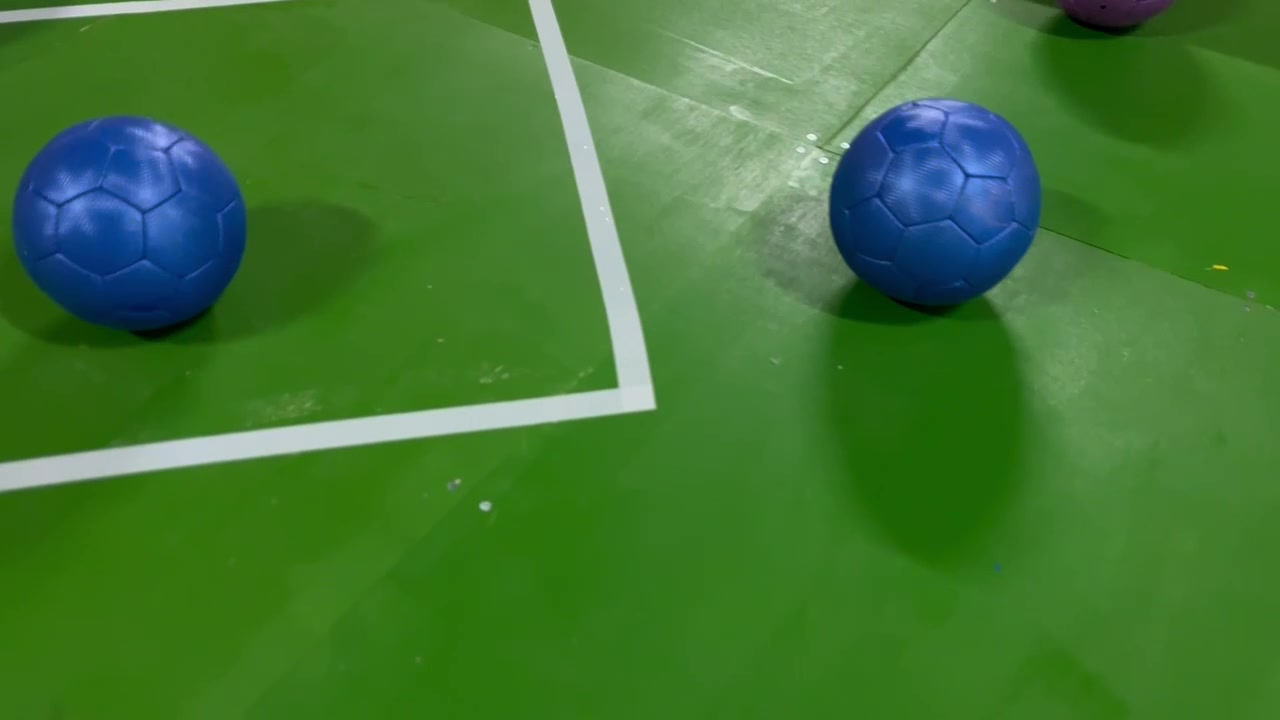blue: (11, 123, 252, 338), (830, 91, 1040, 315)
